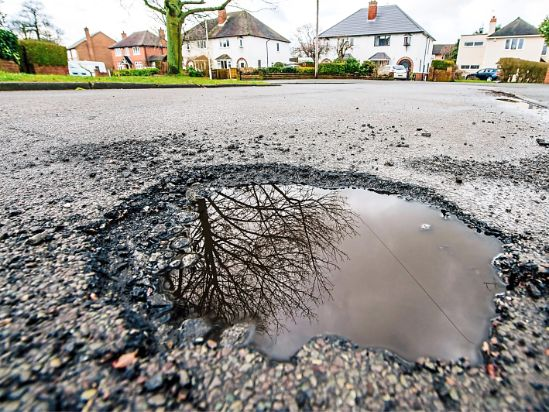pothole: (76, 156, 528, 383)
